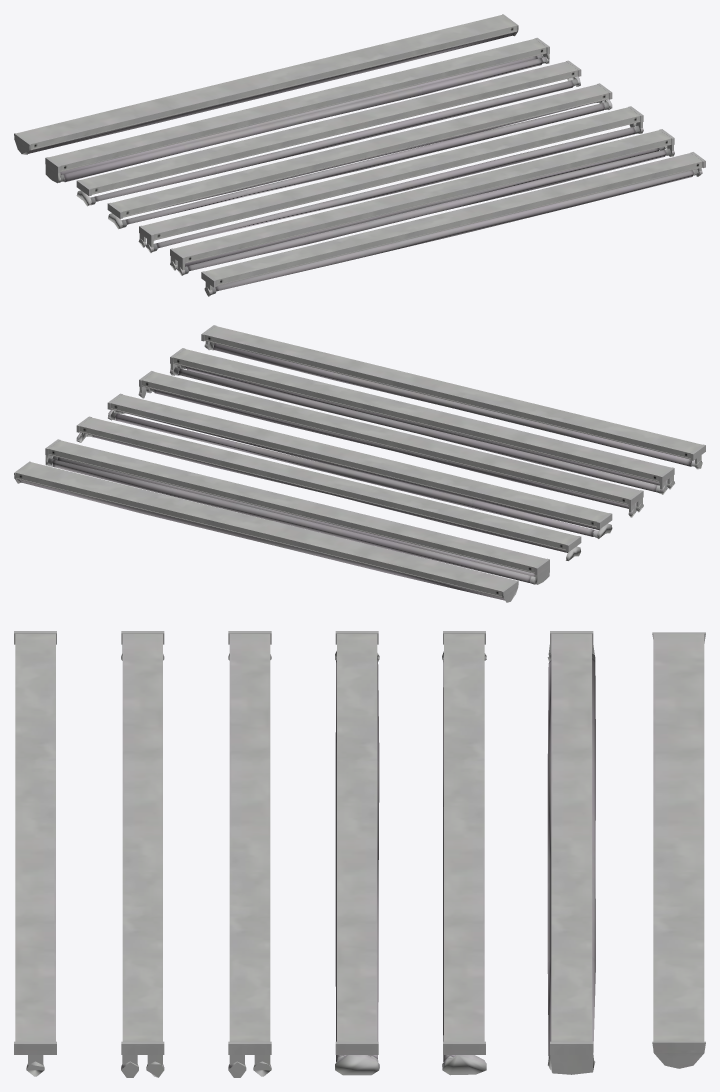
Rendered from mounted_fluorescent_lights.glb.
The picture shows the model from 3 angles, top to bottom: view 1: azimuth 30°, elevation 25°; view 2: azimuth 150°, elevation 25°; view 3: azimuth 270°, elevation 25°; orthographic projection. The views are drawn at different scales.
Parts seen in each view (by area): view 1: mounted_fluorescent_lights_f, mounted_fluorescent_lights_b, mounted_fluorescent_lights_d, mounted_fluorescent_lights_e, mounted_fluorescent_lights_c, mounted_fluorescent_lights_a, mounted_fluorescent_lights_g; view 2: mounted_fluorescent_lights_f, mounted_fluorescent_lights_b, mounted_fluorescent_lights_d, mounted_fluorescent_lights_a, mounted_fluorescent_lights_g, mounted_fluorescent_lights_c, mounted_fluorescent_lights_e; view 3: mounted_fluorescent_lights_g, mounted_fluorescent_lights_f, mounted_fluorescent_lights_d, mounted_fluorescent_lights_e, mounted_fluorescent_lights_c, mounted_fluorescent_lights_b, mounted_fluorescent_lights_a.
Part boxes in pixels (x1,y1,x2,y2): mounted_fluorescent_lights_f: [45, 37, 549, 183]; mounted_fluorescent_lights_b: [170, 129, 674, 275]; mounted_fluorescent_lights_d: [107, 83, 612, 229]; mounted_fluorescent_lights_e: [76, 60, 581, 206]; mounted_fluorescent_lights_c: [138, 106, 643, 252]; mounted_fluorescent_lights_a: [201, 152, 705, 296]; mounted_fluorescent_lights_g: [14, 14, 518, 154]; mounted_fluorescent_lights_f: [45, 439, 549, 584]; mounted_fluorescent_lights_b: [170, 348, 674, 494]; mounted_fluorescent_lights_d: [107, 393, 612, 538]; mounted_fluorescent_lights_a: [201, 325, 705, 469]; mounted_fluorescent_lights_g: [14, 461, 518, 602]; mounted_fluorescent_lights_c: [138, 371, 643, 517]; mounted_fluorescent_lights_e: [76, 416, 581, 560]; mounted_fluorescent_lights_g: [652, 632, 705, 1068]; mounted_fluorescent_lights_f: [547, 631, 595, 1074]; mounted_fluorescent_lights_d: [335, 631, 379, 1075]; mounted_fluorescent_lights_e: [442, 631, 486, 1075]; mounted_fluorescent_lights_c: [228, 631, 271, 1077]; mounted_fluorescent_lights_b: [121, 631, 164, 1077]; mounted_fluorescent_lights_a: [14, 631, 56, 1076].
Bounding box in the file's own units: 0.9122 × 0.0352 × 0.6454.
2 materials, 2 textured.
